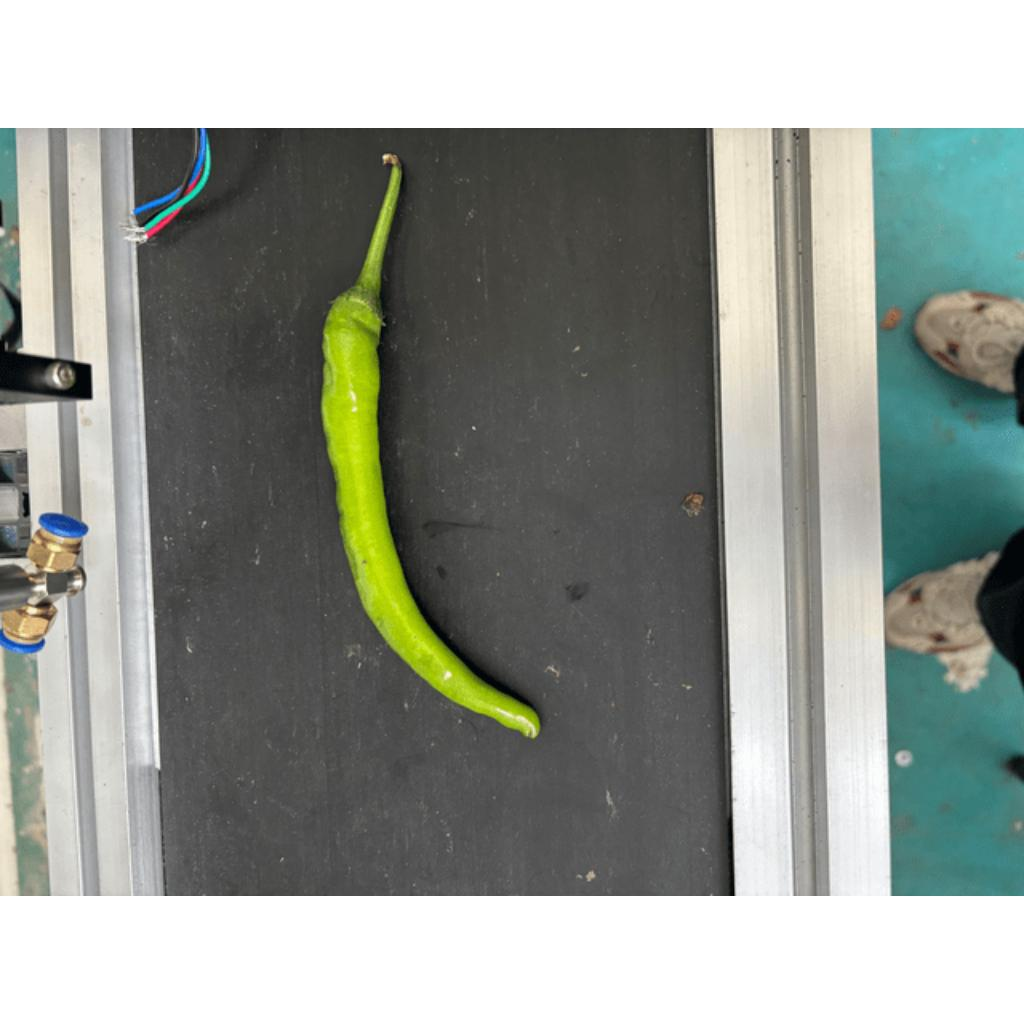chili: (319, 280, 543, 741)
